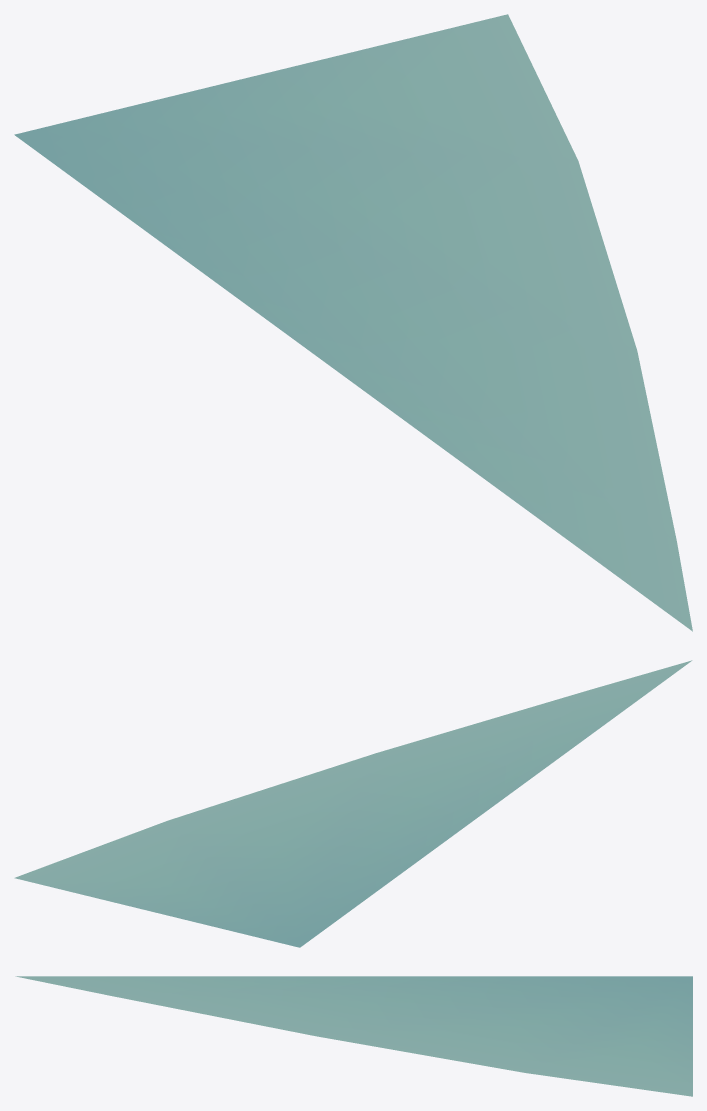
File: water-16-8.glb
The picture shows the model from 3 angles, top to bottom: view 1: azimuth 30°, elevation 25°; view 2: azimuth 150°, elevation 25°; view 3: azimuth 270°, elevation 25°; orthographic projection. The views are drawn at different scales.
Bounding box in the file's own units: 5.52 × 0 × 13.14.
